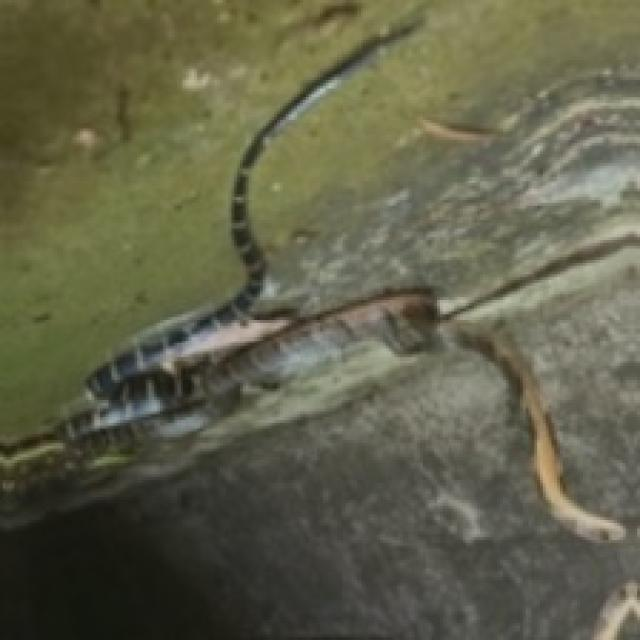king cobra: (0, 0, 637, 434), (294, 203, 611, 311), (280, 277, 303, 297)
